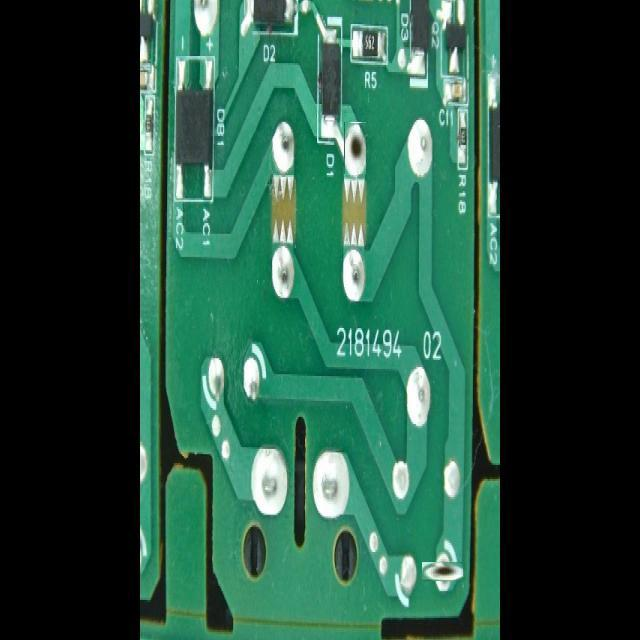damged: (344, 122, 366, 174), (428, 556, 459, 587)
